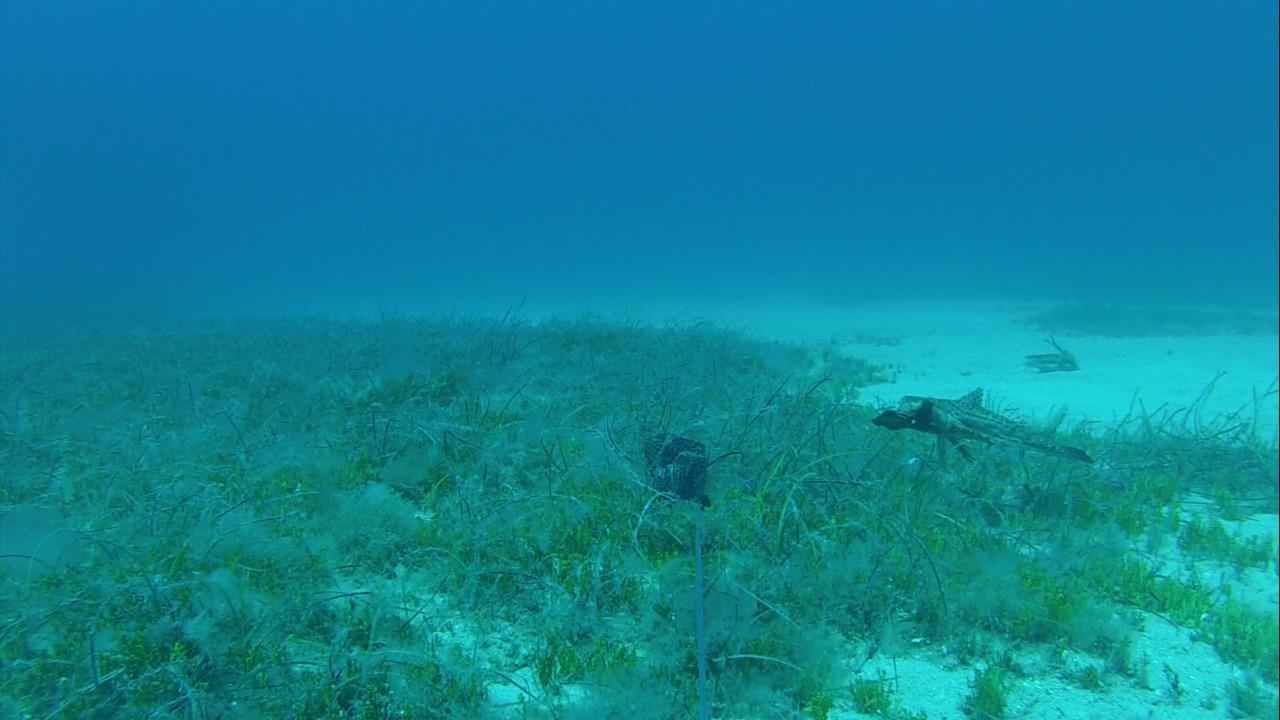dactylopterus: (864, 380, 1104, 482)
